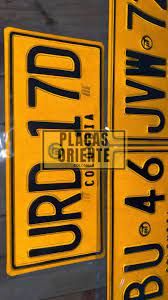placa_moto: (4, 28, 104, 276)
